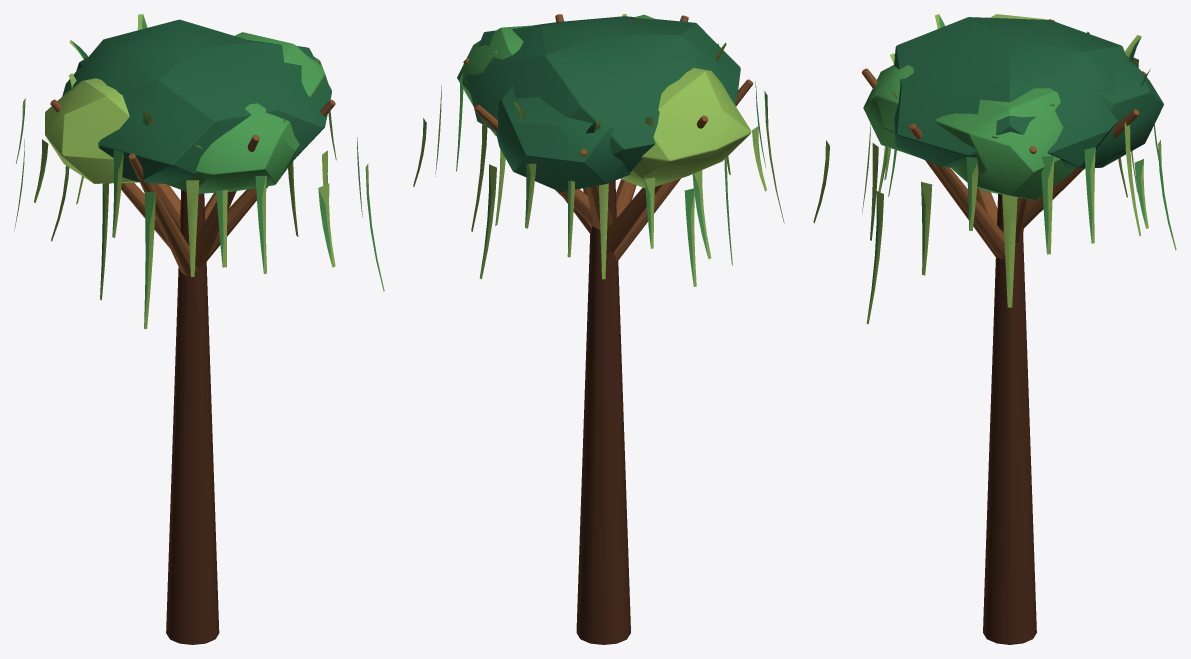
The model's file is tree_willow_lod1.glb.
The picture shows the model from 3 angles, left to right: view 1: azimuth 30°, elevation 25°; view 2: azimuth 150°, elevation 25°; view 3: azimuth 270°, elevation 25°; orthographic projection. The views are drawn at different scales.
Parts seen in each view (by area): view 1: Graceful willow trunk.001; view 2: Graceful willow trunk.001; view 3: Graceful willow trunk.001.
Boxes of the visible parts, left/top/right/bottom form: Graceful willow trunk.001: left=14, top=14, right=384, bottom=644; Graceful willow trunk.001: left=413, top=14, right=784, bottom=644; Graceful willow trunk.001: left=813, top=14, right=1176, bottom=644.
Size of the model in its own units: 3.76 by 7.26 by 4.03.
